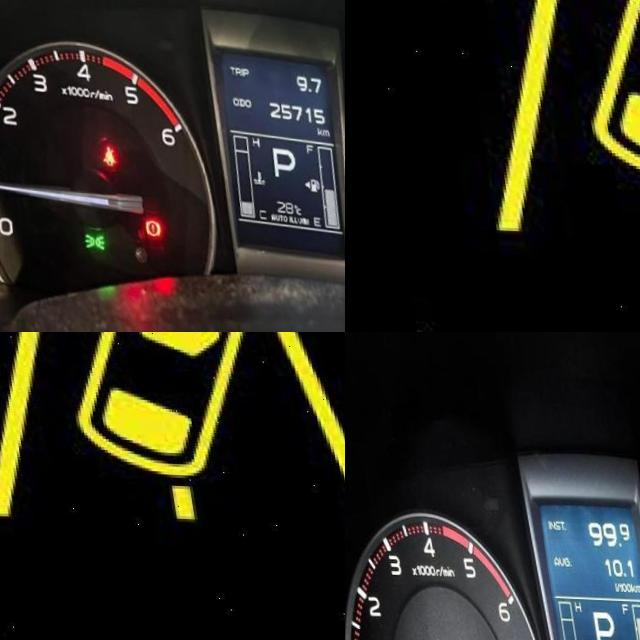Seat Belt: (88, 143, 107, 166)
